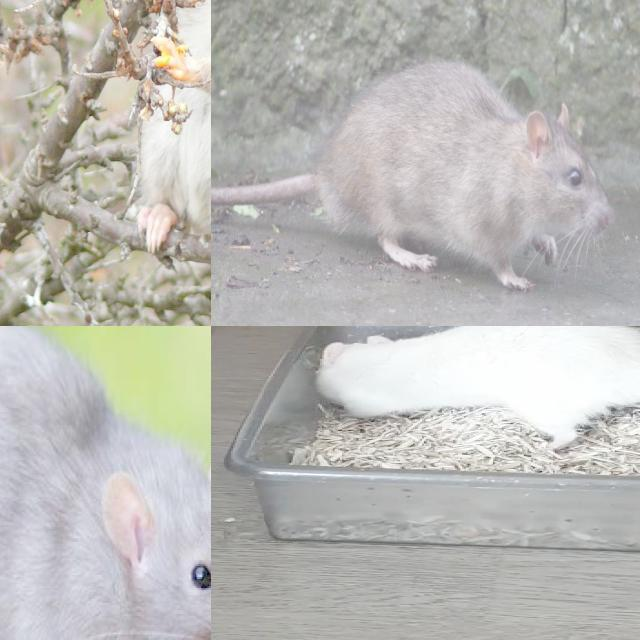rat: (319, 62, 612, 295), (0, 326, 211, 640), (305, 326, 640, 445), (135, 0, 211, 247)
